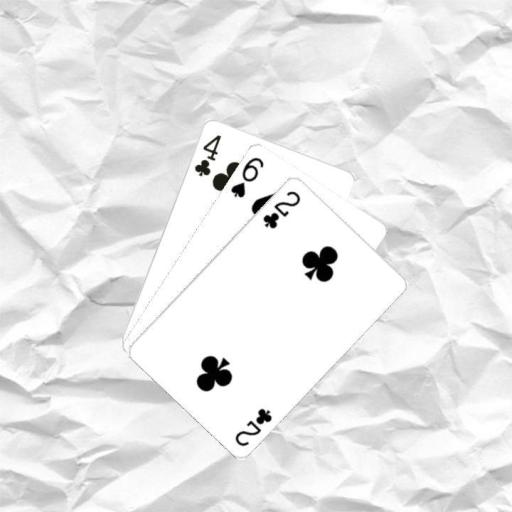2C: (231, 404, 274, 448), (260, 187, 302, 230)
4C: (191, 131, 223, 178)
6S: (228, 153, 265, 199)
